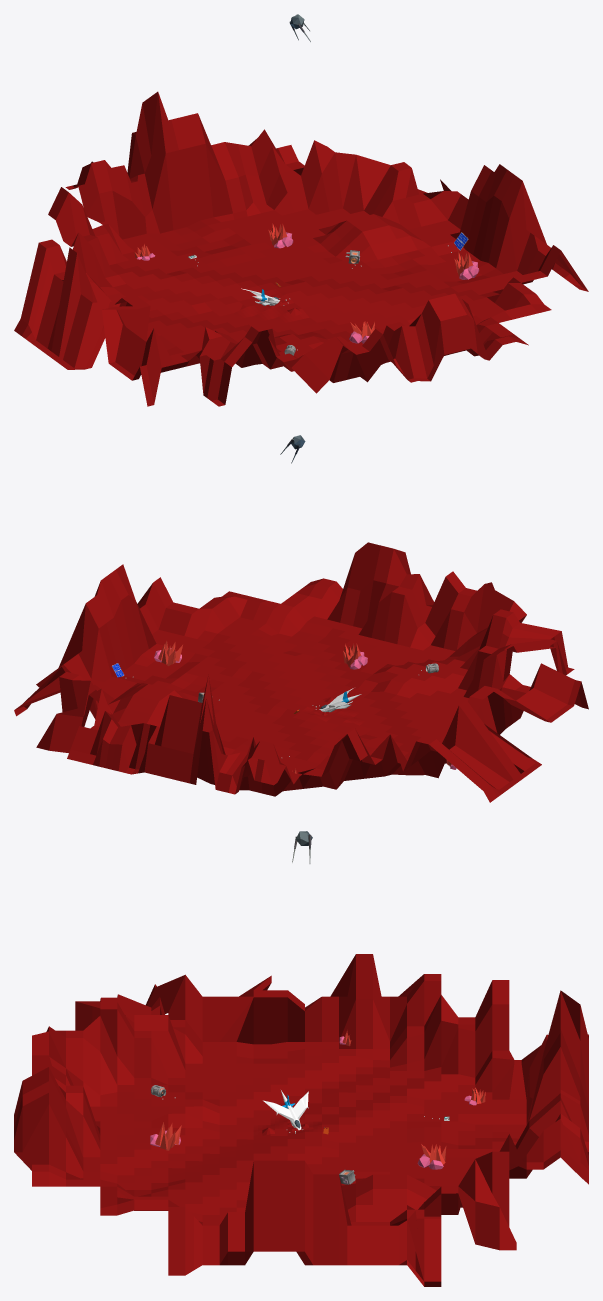
The model's file is AnforaLandscape.glb.
The picture shows the model from 3 angles, top to bottom: view 1: azimuth 30°, elevation 25°; view 2: azimuth 150°, elevation 25°; view 3: azimuth 270°, elevation 25°; orthographic projection. The views are drawn at different scales.
Parts seen in each view (by area): view 1: Plane; view 2: Plane; view 3: Plane, Nave.
Part boxes in pixels (bbox=[...]): Plane: bbox=[14, 91, 588, 406]; Plane: bbox=[14, 542, 588, 802]; Plane: bbox=[14, 954, 588, 1286]; Nave: bbox=[263, 1090, 308, 1130].
Size of the model in its own units: 29.64 by 17.97 by 28.25.
Materials: 22 (1 with a texture image).
